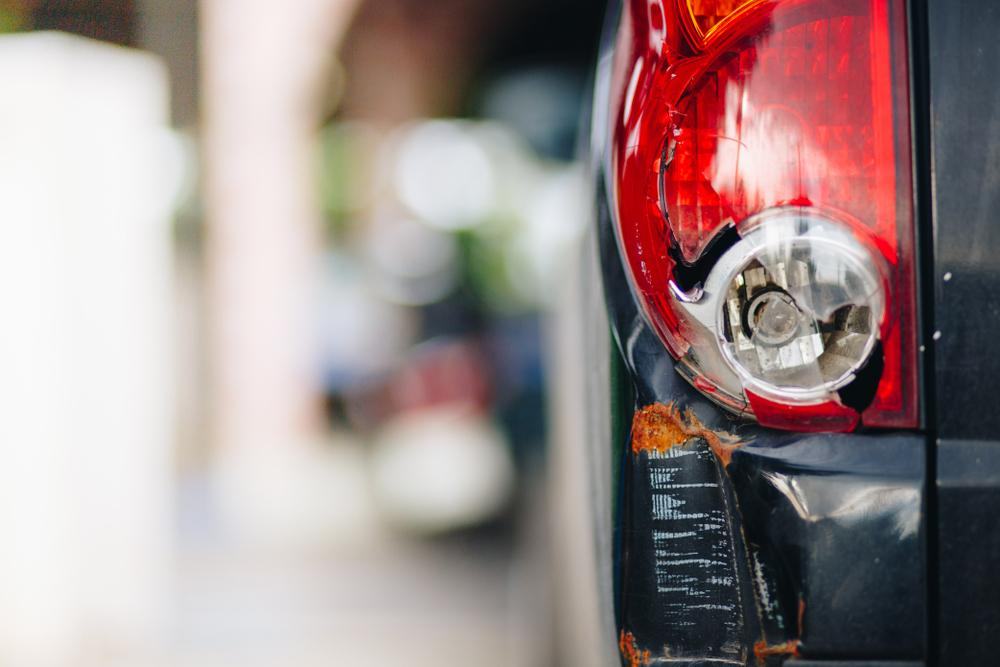lamp broken: (607, 0, 922, 440)
scratch: (648, 437, 793, 632)
